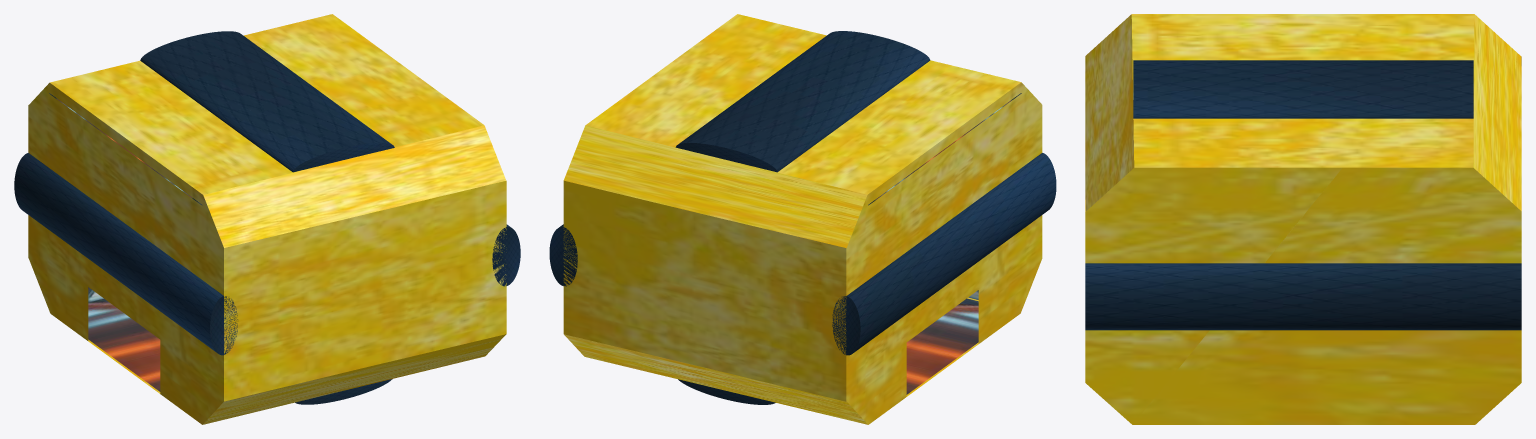
File: EstacionCabina.obj
3 renders of one model, left to right at view 1: azimuth 30°, elevation 25°; view 2: azimuth 150°, elevation 25°; view 3: azimuth 270°, elevation 25°, orthographic. The views are drawn at different scales.
Parts seen in each view (by area): view 1: Cube_Material.001, Cylinder.002_Material.002, Cylinder_Material.002, Plane.003_interior, Cylinder.001_Material.002, Cylinder.003_Material.002; view 2: Cube_Material.001, Cylinder.002_Material.002, Cylinder_Material.002, Plane.003_interior, Cylinder.001_Material.002, Cylinder.003_Material.002; view 3: Cube_Material.001, Cylinder.001_Material.002, Cylinder.002_Material.002.
Part boxes in pixels (left/top/right/bottom): Cube_Material.001: left=28, top=14, right=506, bottom=424; Cylinder.002_Material.002: left=140, top=31, right=394, bottom=172; Cylinder_Material.002: left=14, top=153, right=237, bottom=355; Plane.003_interior: left=88, top=298, right=160, bottom=391; Cylinder.001_Material.002: left=492, top=224, right=520, bottom=286; Cylinder.003_Material.002: left=295, top=379, right=392, bottom=404; Cube_Material.001: left=563, top=14, right=1042, bottom=424; Cylinder.002_Material.002: left=675, top=31, right=930, bottom=172; Cylinder_Material.002: left=832, top=153, right=1056, bottom=355; Plane.003_interior: left=906, top=298, right=978, bottom=394; Cylinder.001_Material.002: left=549, top=224, right=577, bottom=286; Cylinder.003_Material.002: left=678, top=379, right=775, bottom=404; Cube_Material.001: left=1085, top=14, right=1521, bottom=424; Cylinder.001_Material.002: left=1085, top=263, right=1521, bottom=330; Cylinder.002_Material.002: left=1133, top=60, right=1473, bottom=118.
Bounding box in the file's own units: 5.5 × 4.25 × 6.
